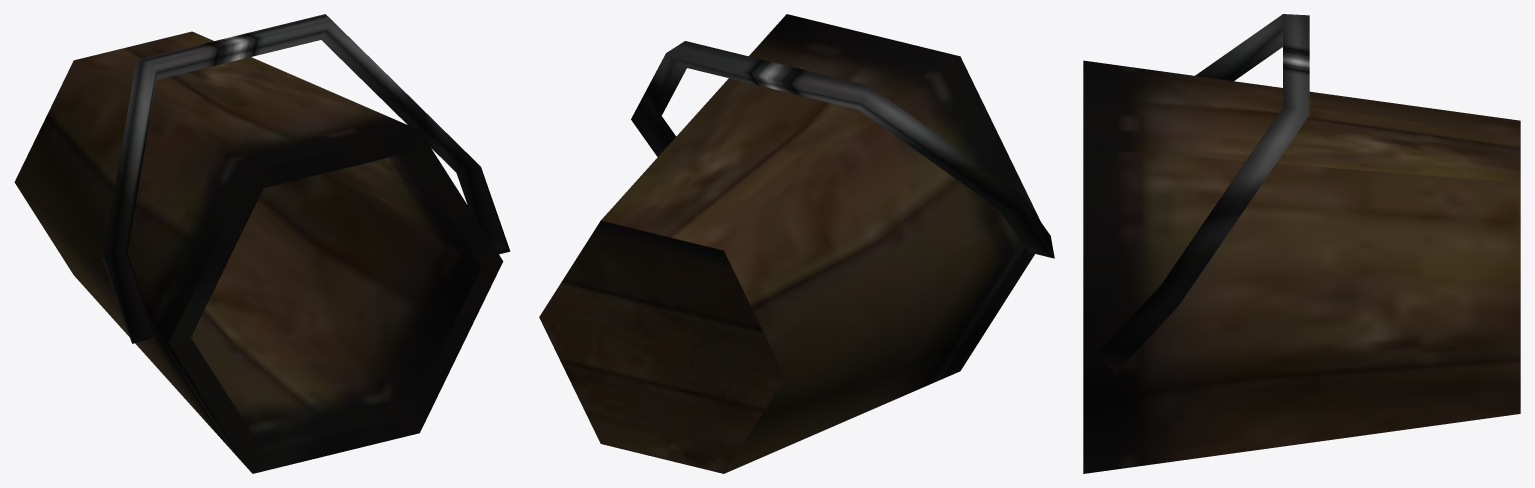
3 views of the same model, side by side, from view 1: azimuth 30°, elevation 25°; view 2: azimuth 150°, elevation 25°; view 3: azimuth 270°, elevation 25° (orthographic). The views are drawn at different scales.
Visible parts, largest first — view 1: model_Object35; view 2: model_Object35; view 3: model_Object35.
Part boxes in pixels (bbox=[...]): model_Object35: bbox=[14, 14, 510, 473]; model_Object35: bbox=[539, 14, 1054, 473]; model_Object35: bbox=[1083, 14, 1520, 473].
Bounding box in the file's own units: 0.3709 × 0.322 × 0.3452.
Materials: 1 (1 with a texture image).
